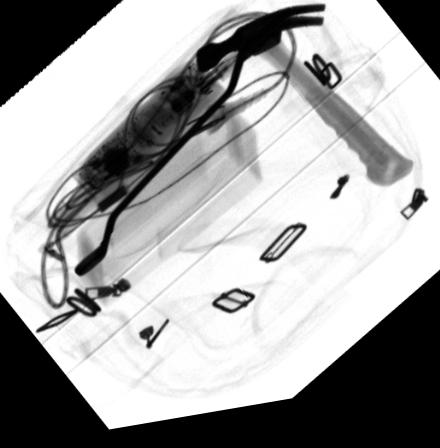Hammer: (193, 13, 413, 200)
Wrench: (73, 42, 280, 279)
